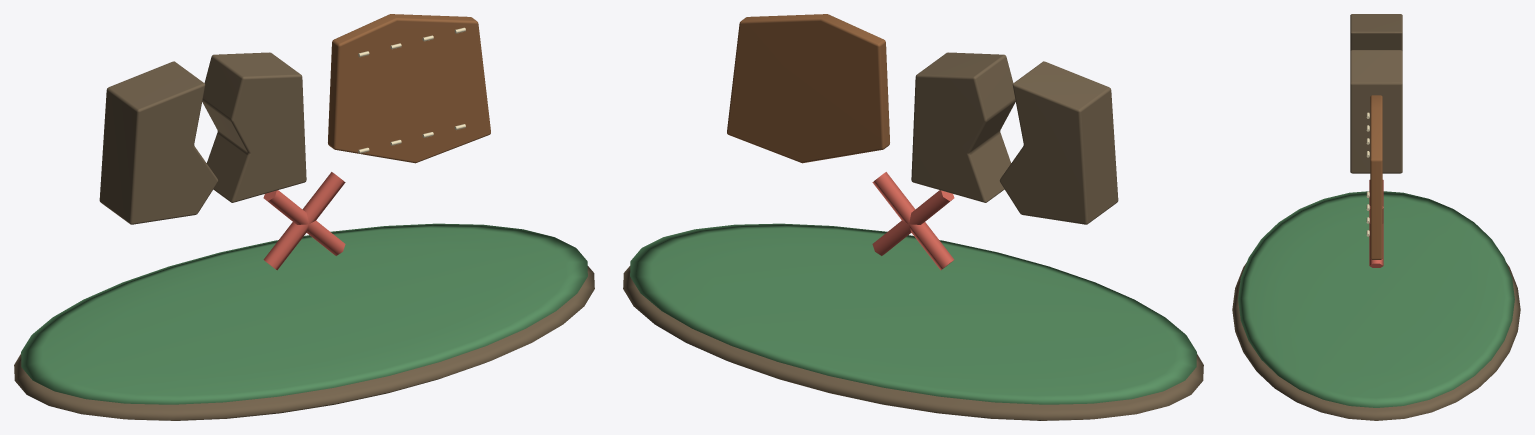
The model's file is complete-second-stone-skin-broken.glb.
3 renders of one model, left to right at view 1: azimuth 30°, elevation 25°; view 2: azimuth 150°, elevation 25°; view 3: azimuth 270°, elevation 25°, orthographic. The views are drawn at different scales.
Parts seen in each view (by area): view 1: complete-second-stone-skin-broken_surface_01, complete-second-stone-skin-broken_surface_00, complete-second-stone-skin-broken_surface_02, complete-second-stone-skin-broken_surface_04; view 2: complete-second-stone-skin-broken_surface_01, complete-second-stone-skin-broken_surface_00, complete-second-stone-skin-broken_surface_02, complete-second-stone-skin-broken_surface_04; view 3: complete-second-stone-skin-broken_surface_01, complete-second-stone-skin-broken_surface_00, complete-second-stone-skin-broken_surface_02, complete-second-stone-skin-broken_surface_04.
Part boxes in pixels (x1,y1,x2,y2): complete-second-stone-skin-broken_surface_01: (21, 223, 587, 404); complete-second-stone-skin-broken_surface_00: (14, 52, 594, 420); complete-second-stone-skin-broken_surface_02: (328, 14, 490, 163); complete-second-stone-skin-broken_surface_04: (263, 172, 345, 270); complete-second-stone-skin-broken_surface_01: (630, 223, 1196, 404); complete-second-stone-skin-broken_surface_00: (623, 52, 1203, 420); complete-second-stone-skin-broken_surface_02: (727, 14, 889, 163); complete-second-stone-skin-broken_surface_04: (872, 172, 954, 270); complete-second-stone-skin-broken_surface_01: (1238, 191, 1514, 407); complete-second-stone-skin-broken_surface_00: (1232, 14, 1520, 420); complete-second-stone-skin-broken_surface_02: (1370, 95, 1382, 259); complete-second-stone-skin-broken_surface_04: (1369, 180, 1383, 267).
Size of the model in its own units: 4.56 by 2.4 by 2.5.
